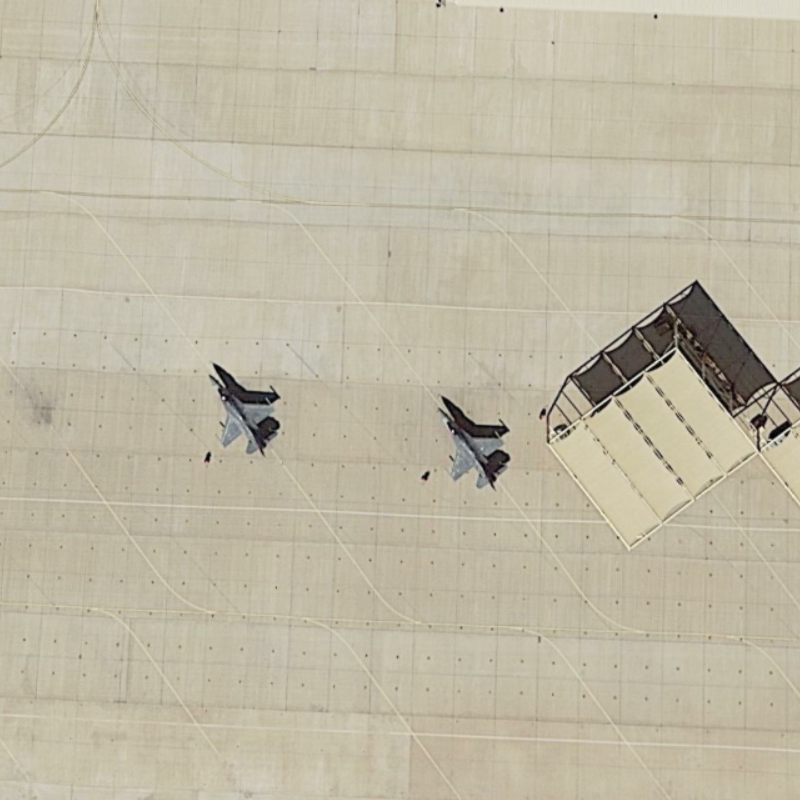A5: (201, 366, 286, 460), (432, 403, 513, 494)
